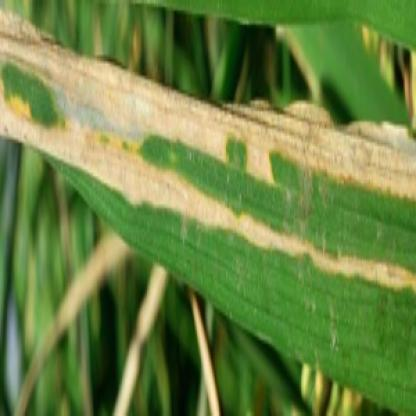Blight: (1, 1, 416, 305)
